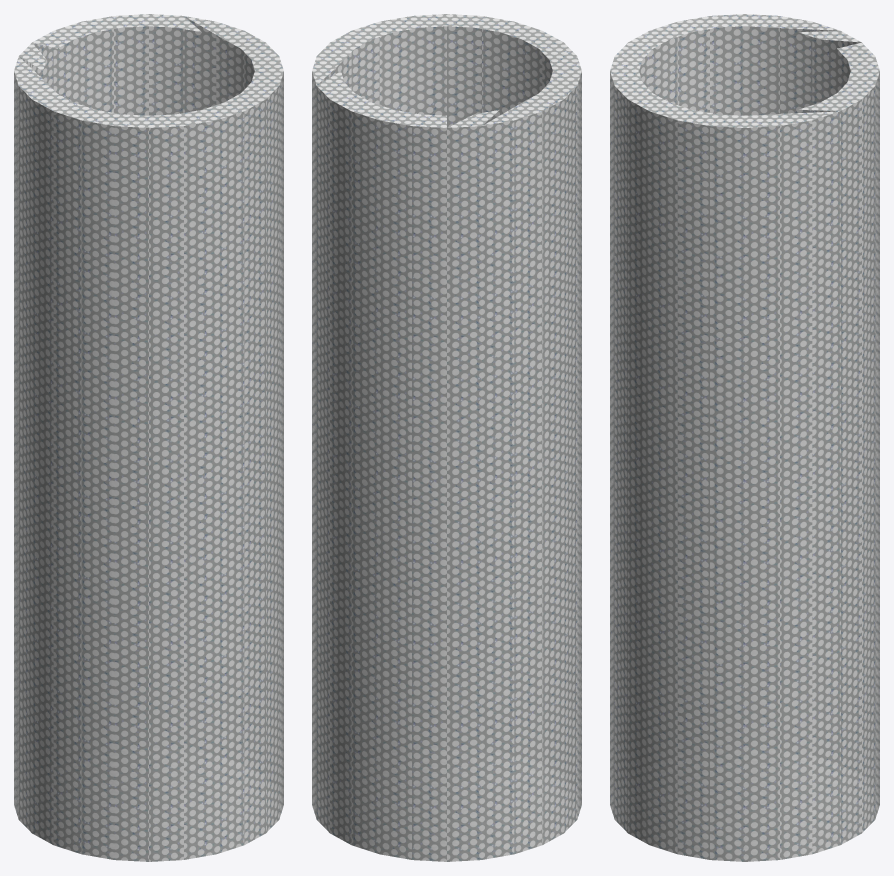
3 renders of one model, left to right at view 1: azimuth 30°, elevation 25°; view 2: azimuth 150°, elevation 25°; view 3: azimuth 270°, elevation 25°, orthographic.
Size of the model in its own units: 0.1033 by 0.3098 by 0.1033.
